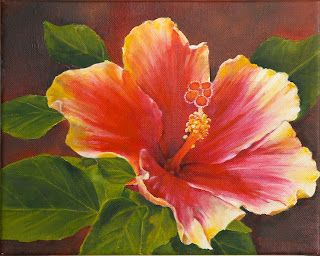Hibiscus: (49, 15, 311, 253)
